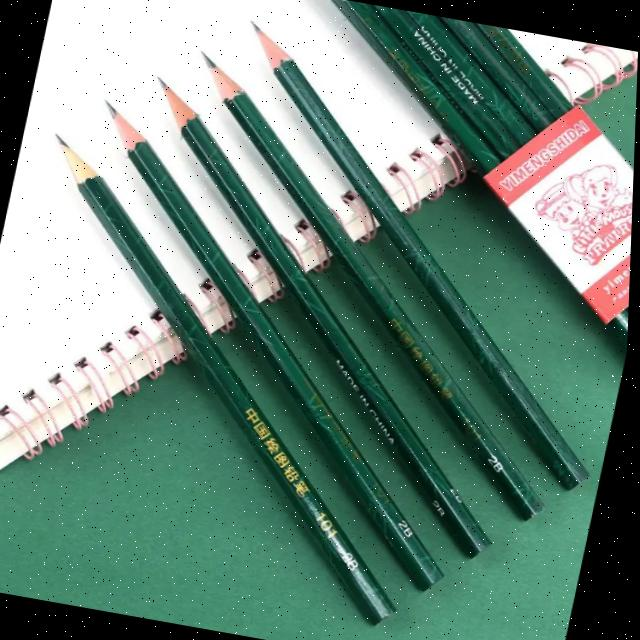pencil: (82, 84, 461, 601), (38, 117, 411, 631), (135, 59, 506, 566), (181, 36, 559, 527), (231, 6, 600, 496), (326, 0, 631, 360), (369, 4, 632, 313), (408, 11, 540, 144), (443, 17, 559, 132), (475, 23, 578, 118)
